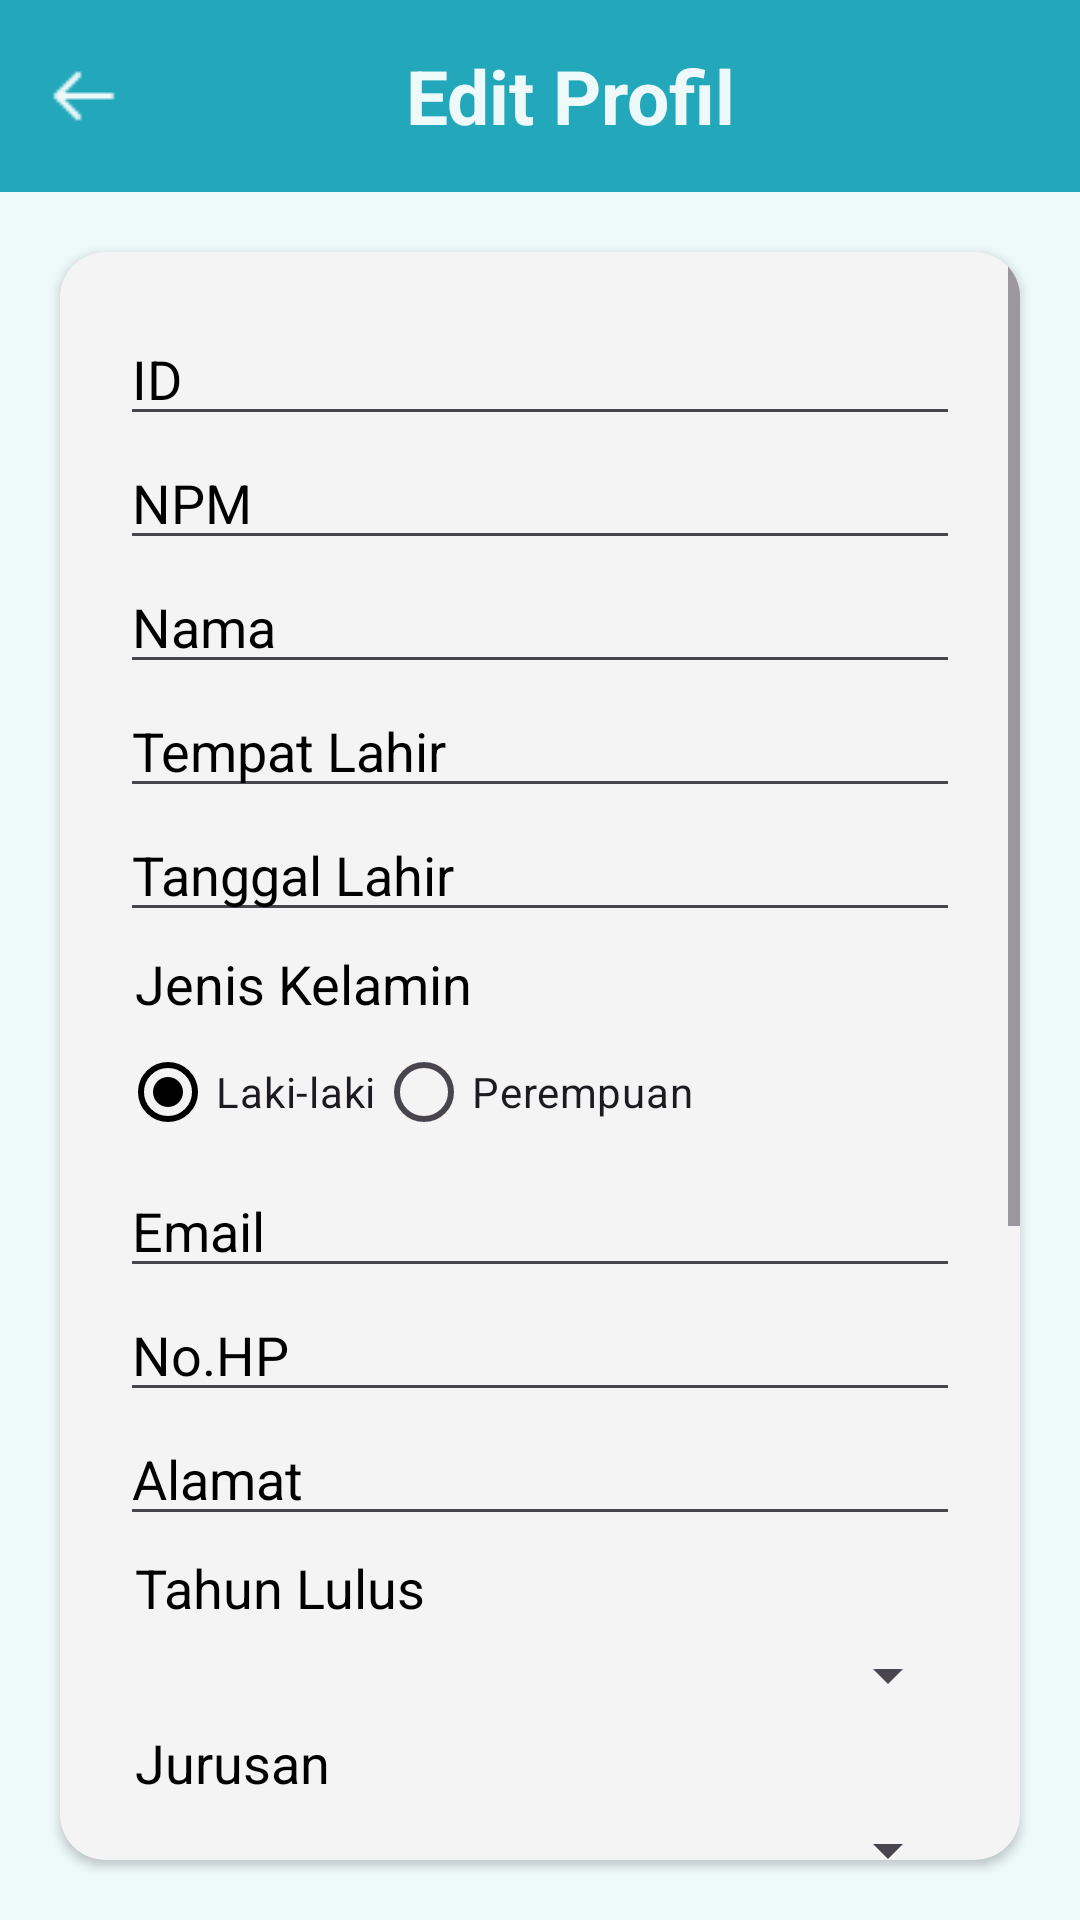

Icon bounding boxes for this 1080 x 1920 phone screenshot, format (x1, y1, x2, y2):
back: (53, 71, 115, 121)
